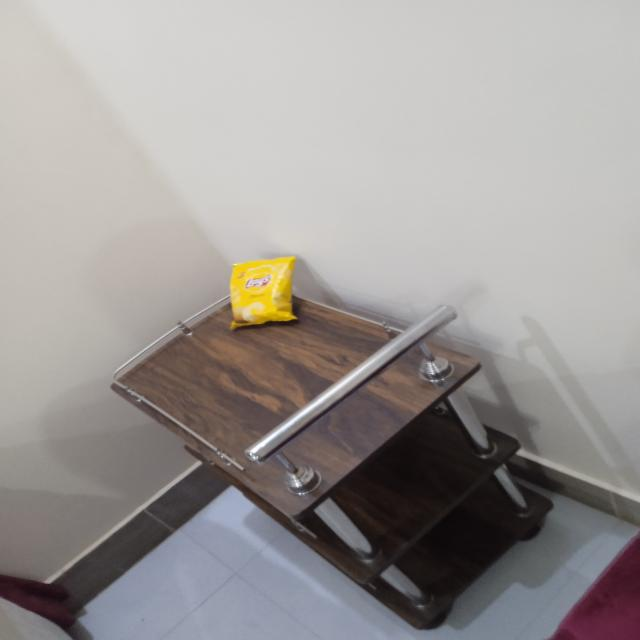Plastic: (224, 252, 306, 330)
